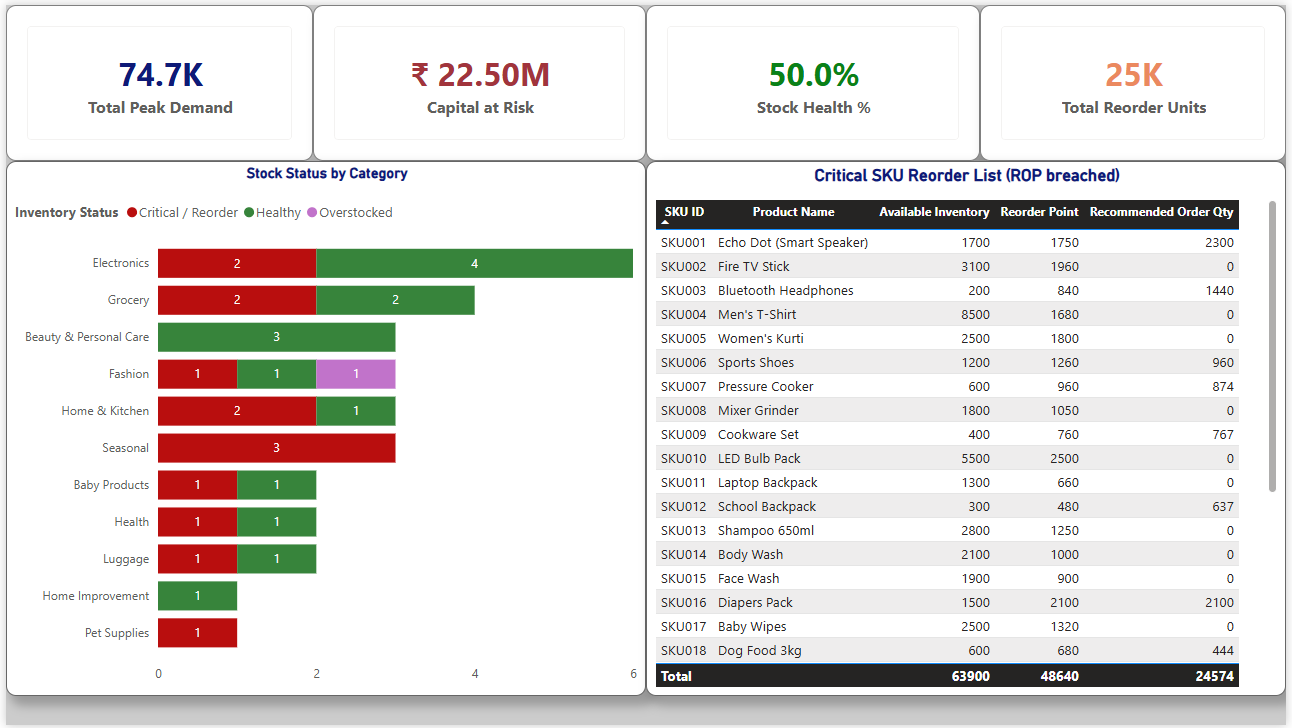

This screenshot's page, from the dashboard's own definition file:
{"tool":"powerbi","page":{"name":"Inventory Control Tower","canvas":[1280,720],"ordinal":0},"visuals":[{"type":"cardVisual","fields":{"Data":["_Measure.Total Peak Demand"]},"box":[0,0,307.1,156.1],"z":0},{"type":"cardVisual","fields":{"Data":["_Measure.Capital at Risk"]},"box":[307.1,0,333.1,156.1],"z":1000},{"type":"cardVisual","fields":{"Data":["_Measure.Stock Health %"]},"box":[640.2,0,334,156.1],"z":2000},{"type":"cardVisual","fields":{"Data":["_Measure.Total Reorder Units"]},"box":[974.2,0,305.3,156.1],"z":3000},{"type":"barChart","title":"Stock Status by Category","fields":{"Category":["Inventory Model.Category"],"Y":["CountNonNull(Inventory Model.SKU ID)"],"Series":["Inventory Model.Inventory Status"]},"box":[0,156,640,535],"z":4000},{"type":"tableEx","title":"Critical SKU Reorder List (ROP breached)","fields":{"Values":["Inventory Model.SKU ID","Inventory Model.Product Name","Sum(Inventory Model.Available Inventory)","Sum(Inventory Model.Reorder Point)","Sum(Inventory Model.Recommended Order Qty)"]},"box":[640.2,156.1,639.3,535.2],"z":5000}]}

Visuals, with their boxes in screenshot pixels (x1, y1, x2, y2), scaled from the page's 1280x720 canvas onto the 1292x728 screenshot:
cardVisual - _Measure.Total Peak Demand: l=0, t=0, r=310, b=158
cardVisual - _Measure.Capital at Risk: l=310, t=0, r=646, b=158
cardVisual - _Measure.Stock Health %: l=646, t=0, r=983, b=158
cardVisual - _Measure.Total Reorder Units: l=983, t=0, r=1291, b=158
"Stock Status by Category" barChart: l=0, t=158, r=646, b=699
"Critical SKU Reorder List (ROP breached)" tableEx: l=646, t=158, r=1291, b=699
